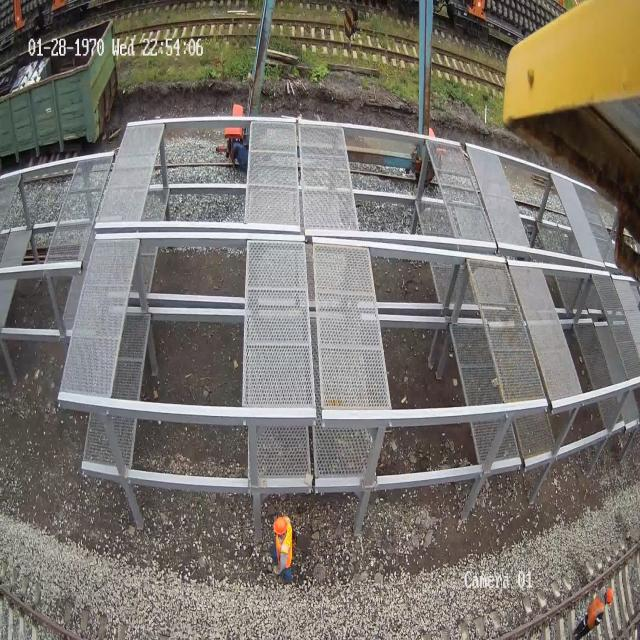Helmet: (273, 516, 286, 535), (605, 586, 613, 604)
Person: (574, 568, 624, 636), (273, 515, 293, 583)
